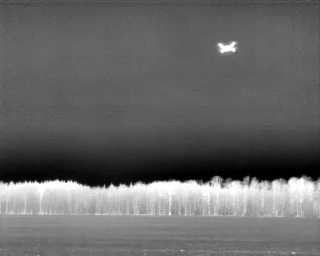DRONE: (213, 36, 242, 60)
